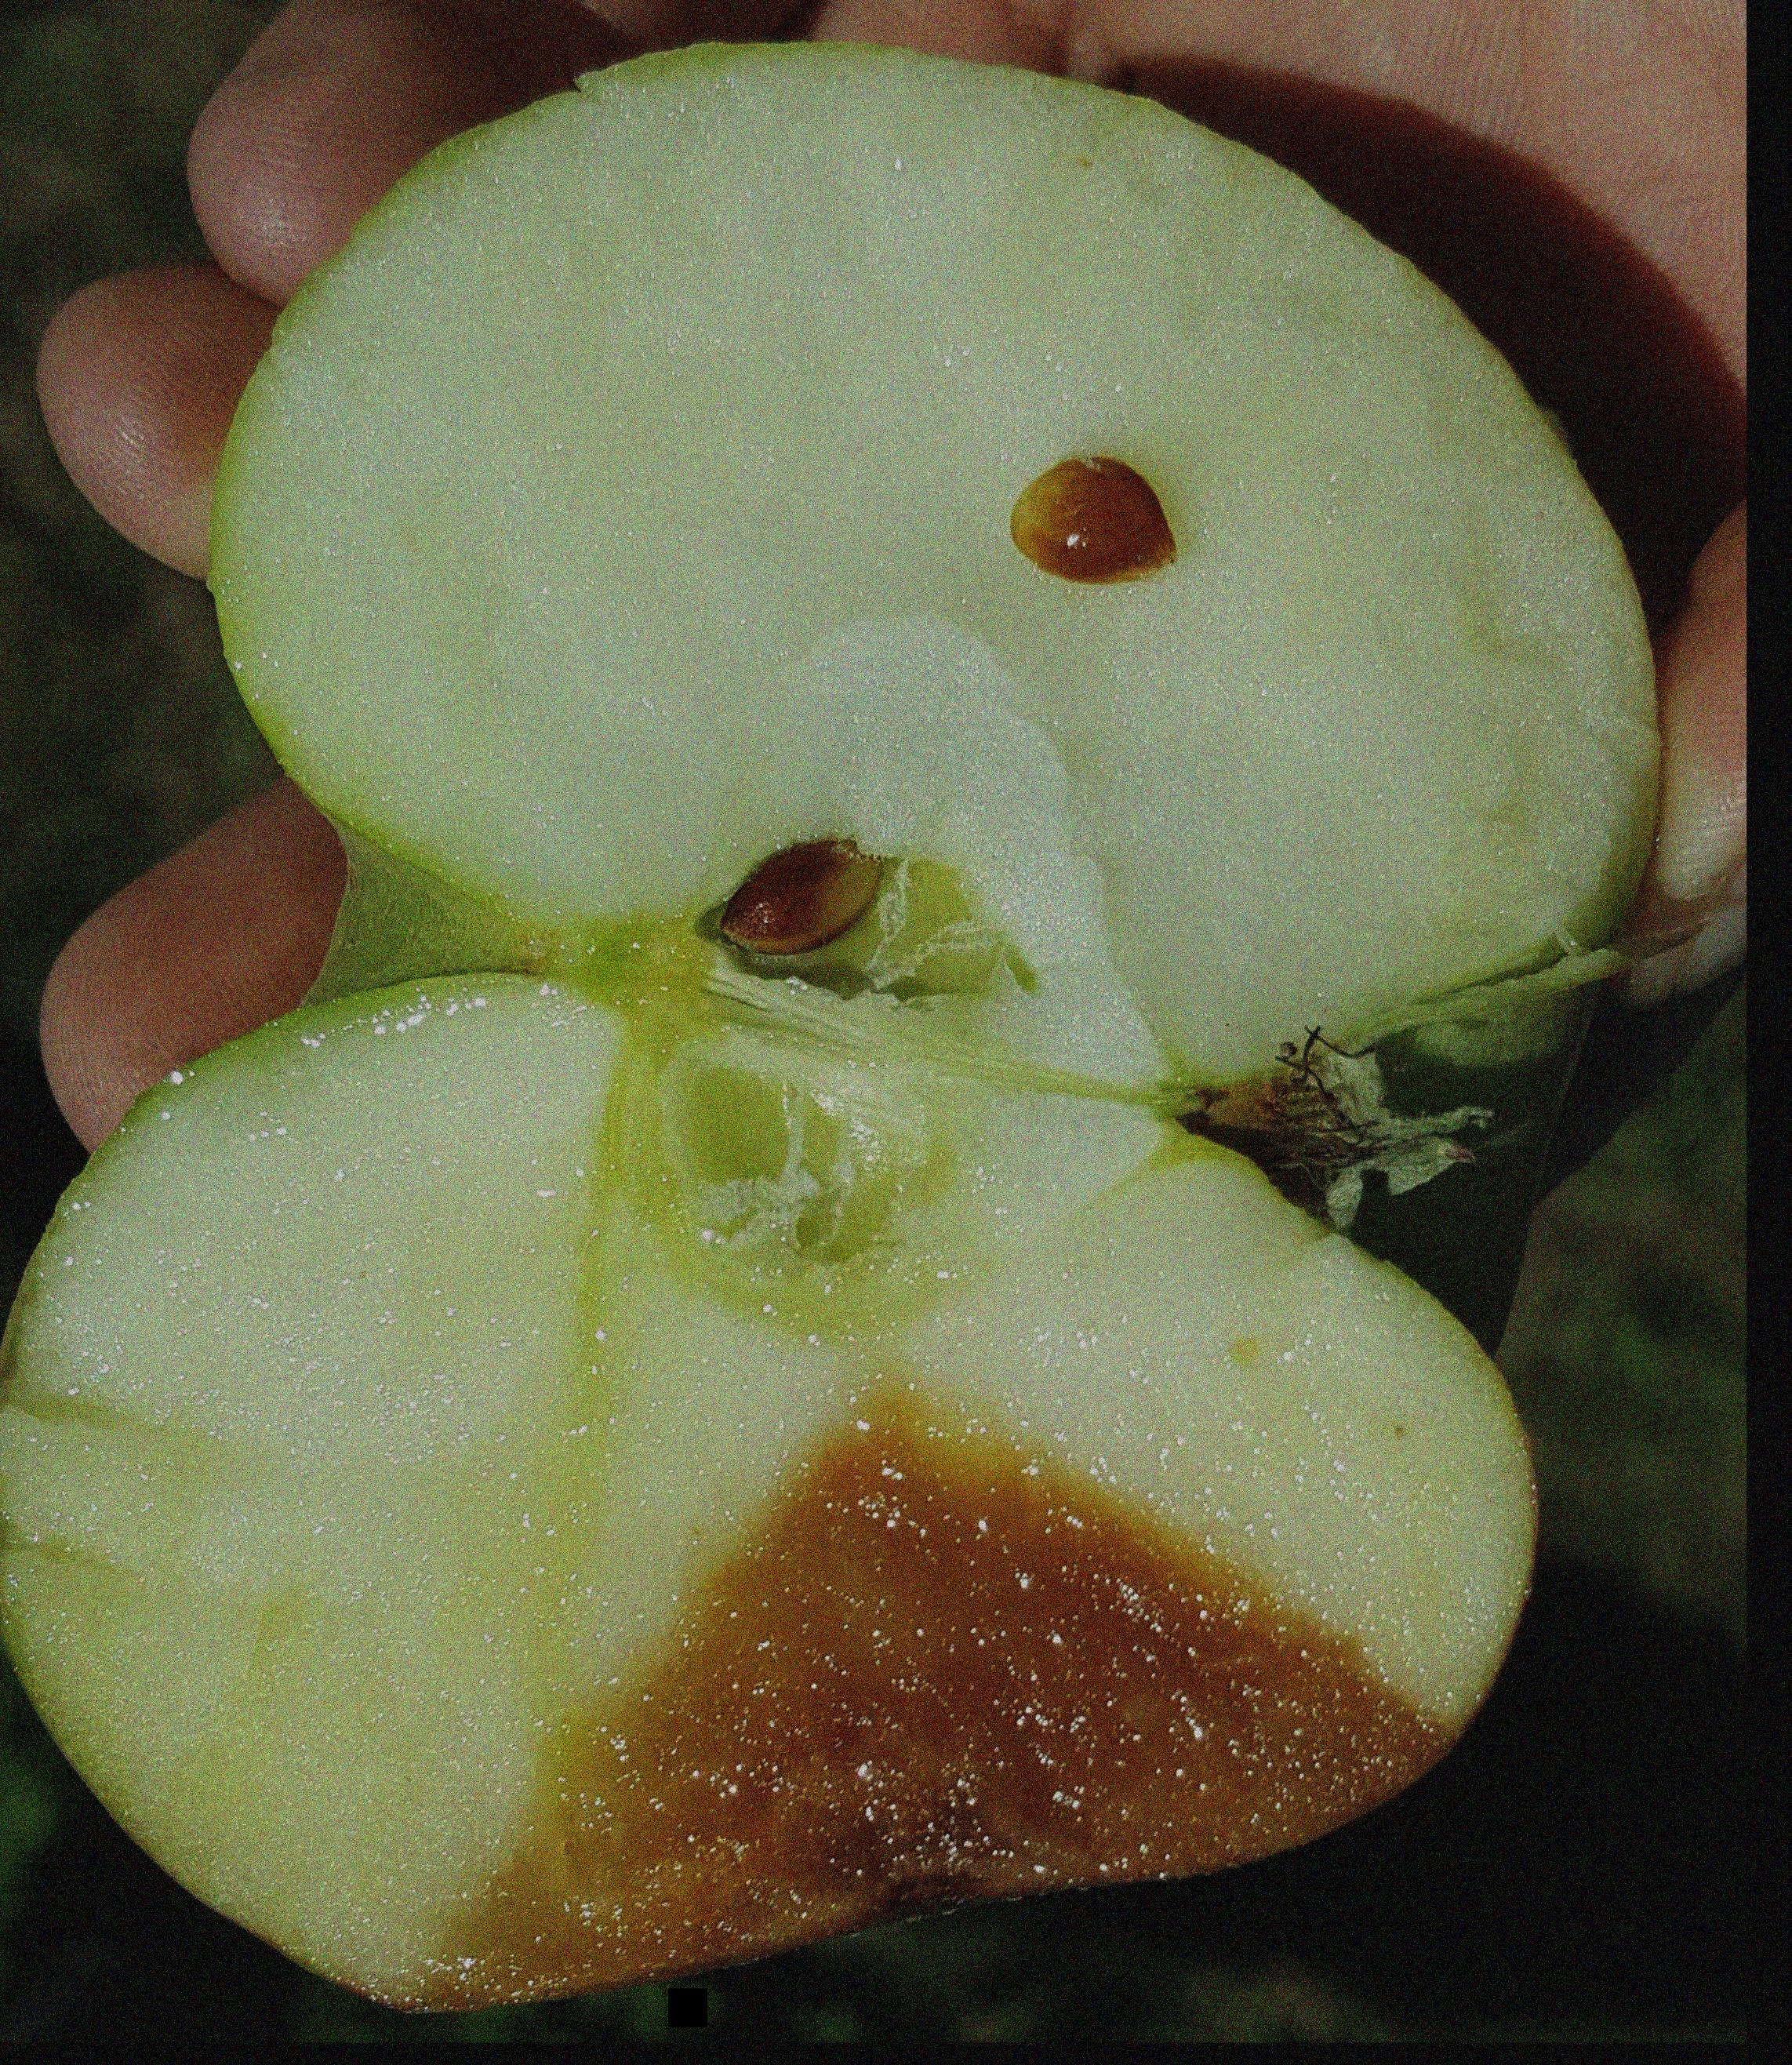rotten apple: (176, 1442, 1506, 1942)
